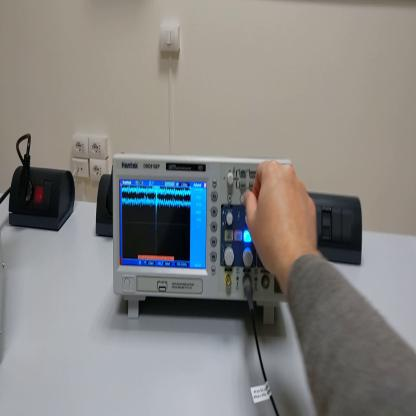hand: (244, 159, 321, 279)
oscilloscope: (112, 151, 299, 326)
power supply: (2, 227, 11, 361)
socket: (7, 169, 78, 234), (95, 172, 115, 243)
